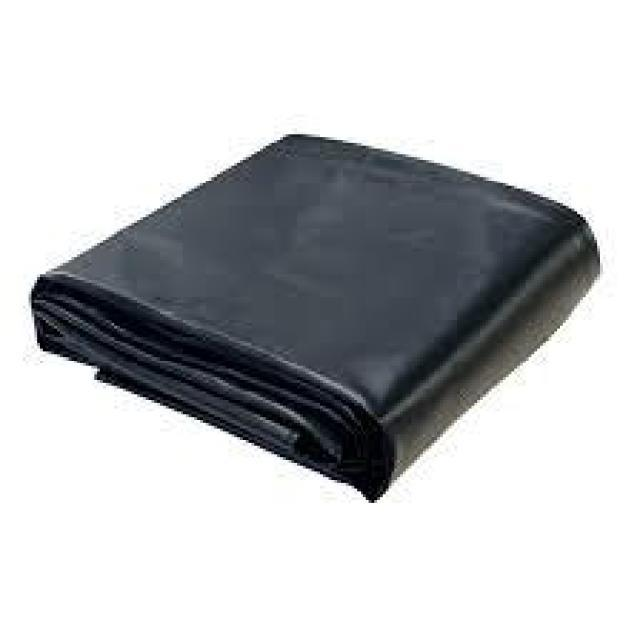cuzdan: (31, 91, 640, 538)
